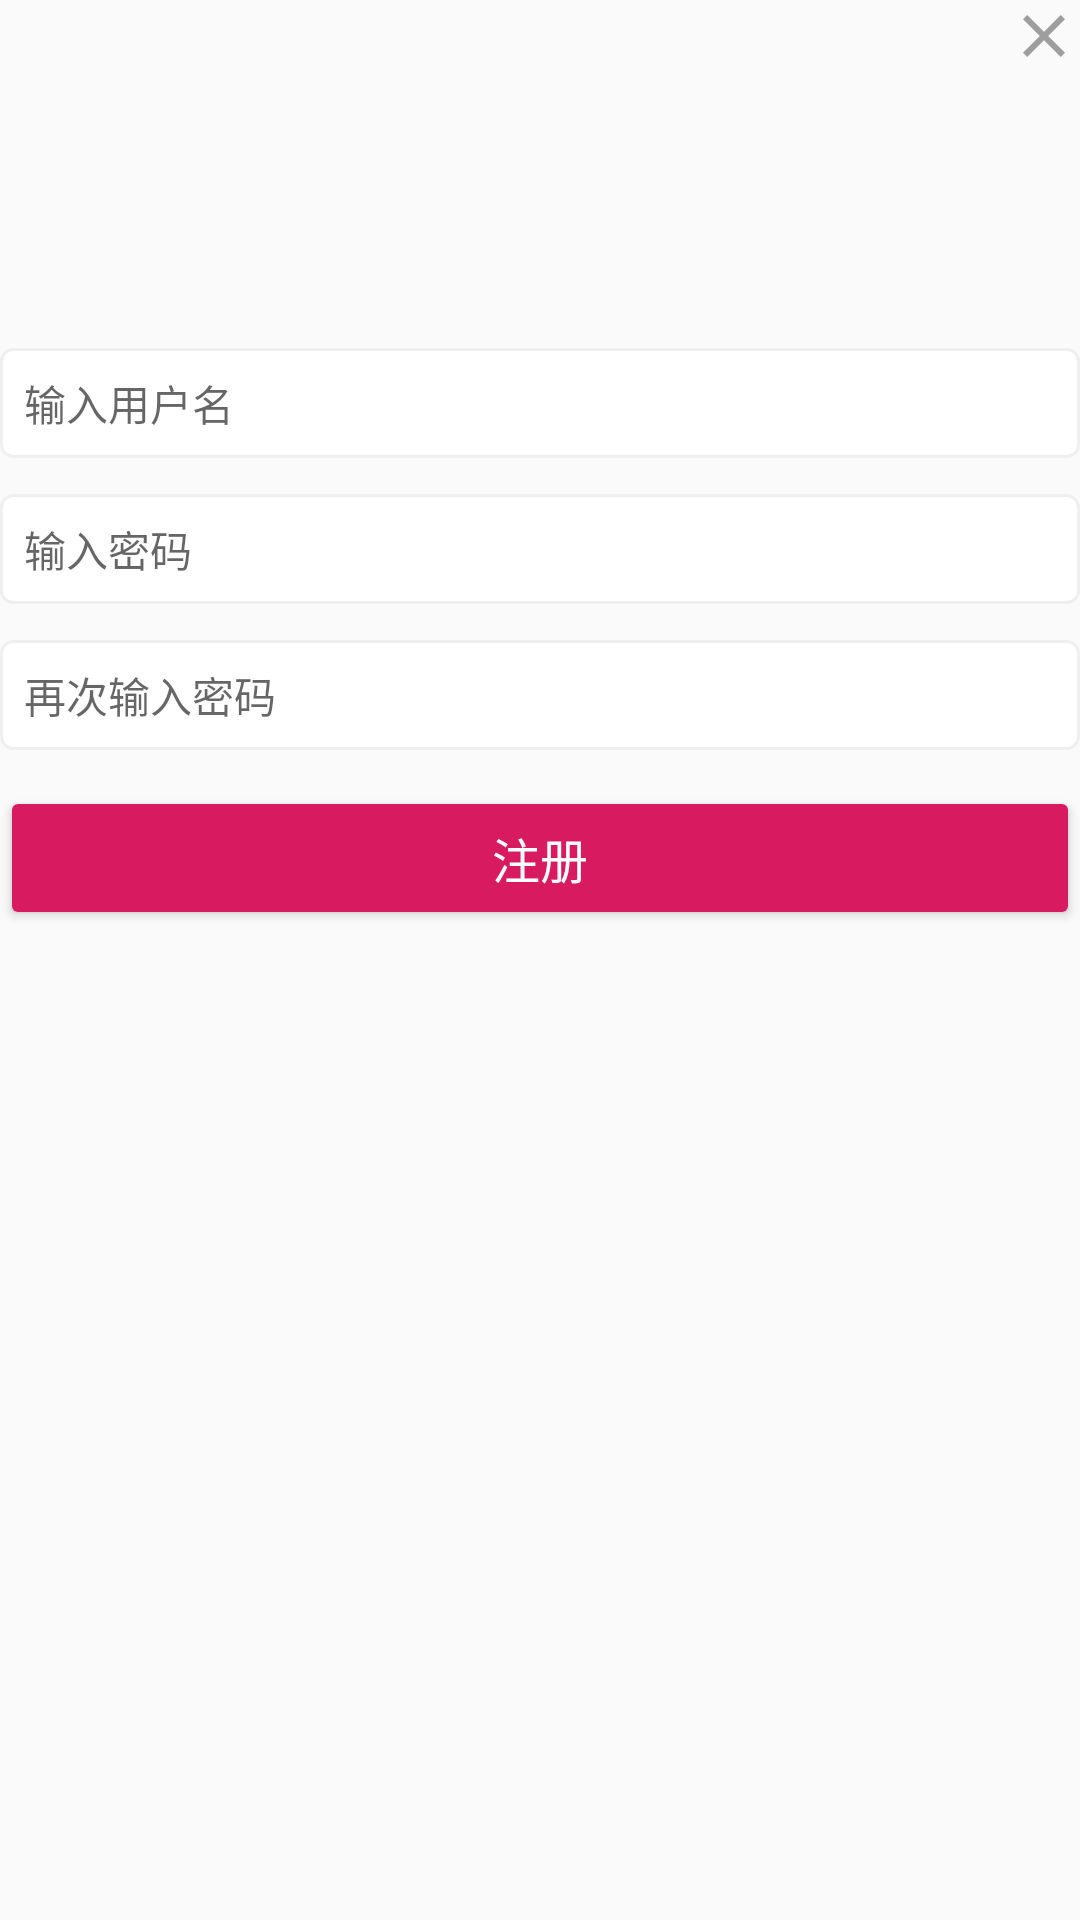

Icons on this 1080×1920 Android screen, each with its box as (x1,y1,x2,y2):
close: (1023,15,1065,57)
